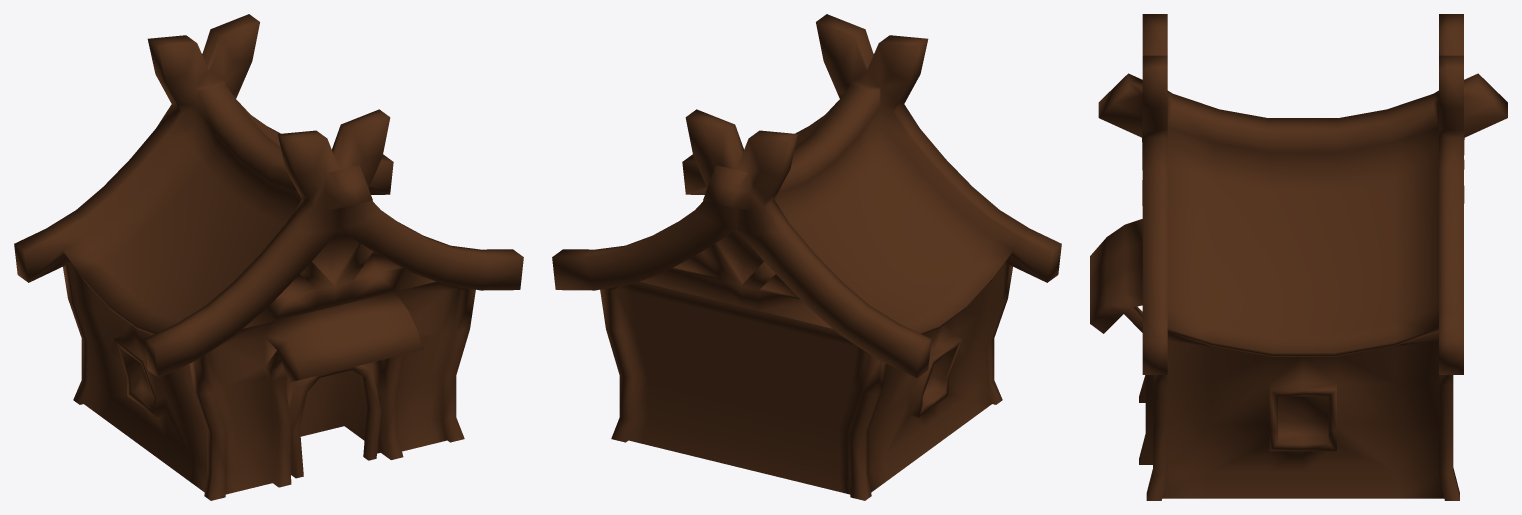
Rendered from VillageHouse_Small.fbx.
3 views of the same model, side by side, from view 1: azimuth 30°, elevation 25°; view 2: azimuth 150°, elevation 25°; view 3: azimuth 270°, elevation 25° (orthographic). The views are drawn at different scales.
Visible parts, largest first — view 1: SmallHouse; view 2: SmallHouse; view 3: SmallHouse.
Part boxes in pixels (x1,y1,x2,y2): SmallHouse: [14, 14, 523, 500]; SmallHouse: [552, 14, 1061, 500]; SmallHouse: [1090, 14, 1507, 500].
Size of the model in its own units: 601 by 532 by 519.
